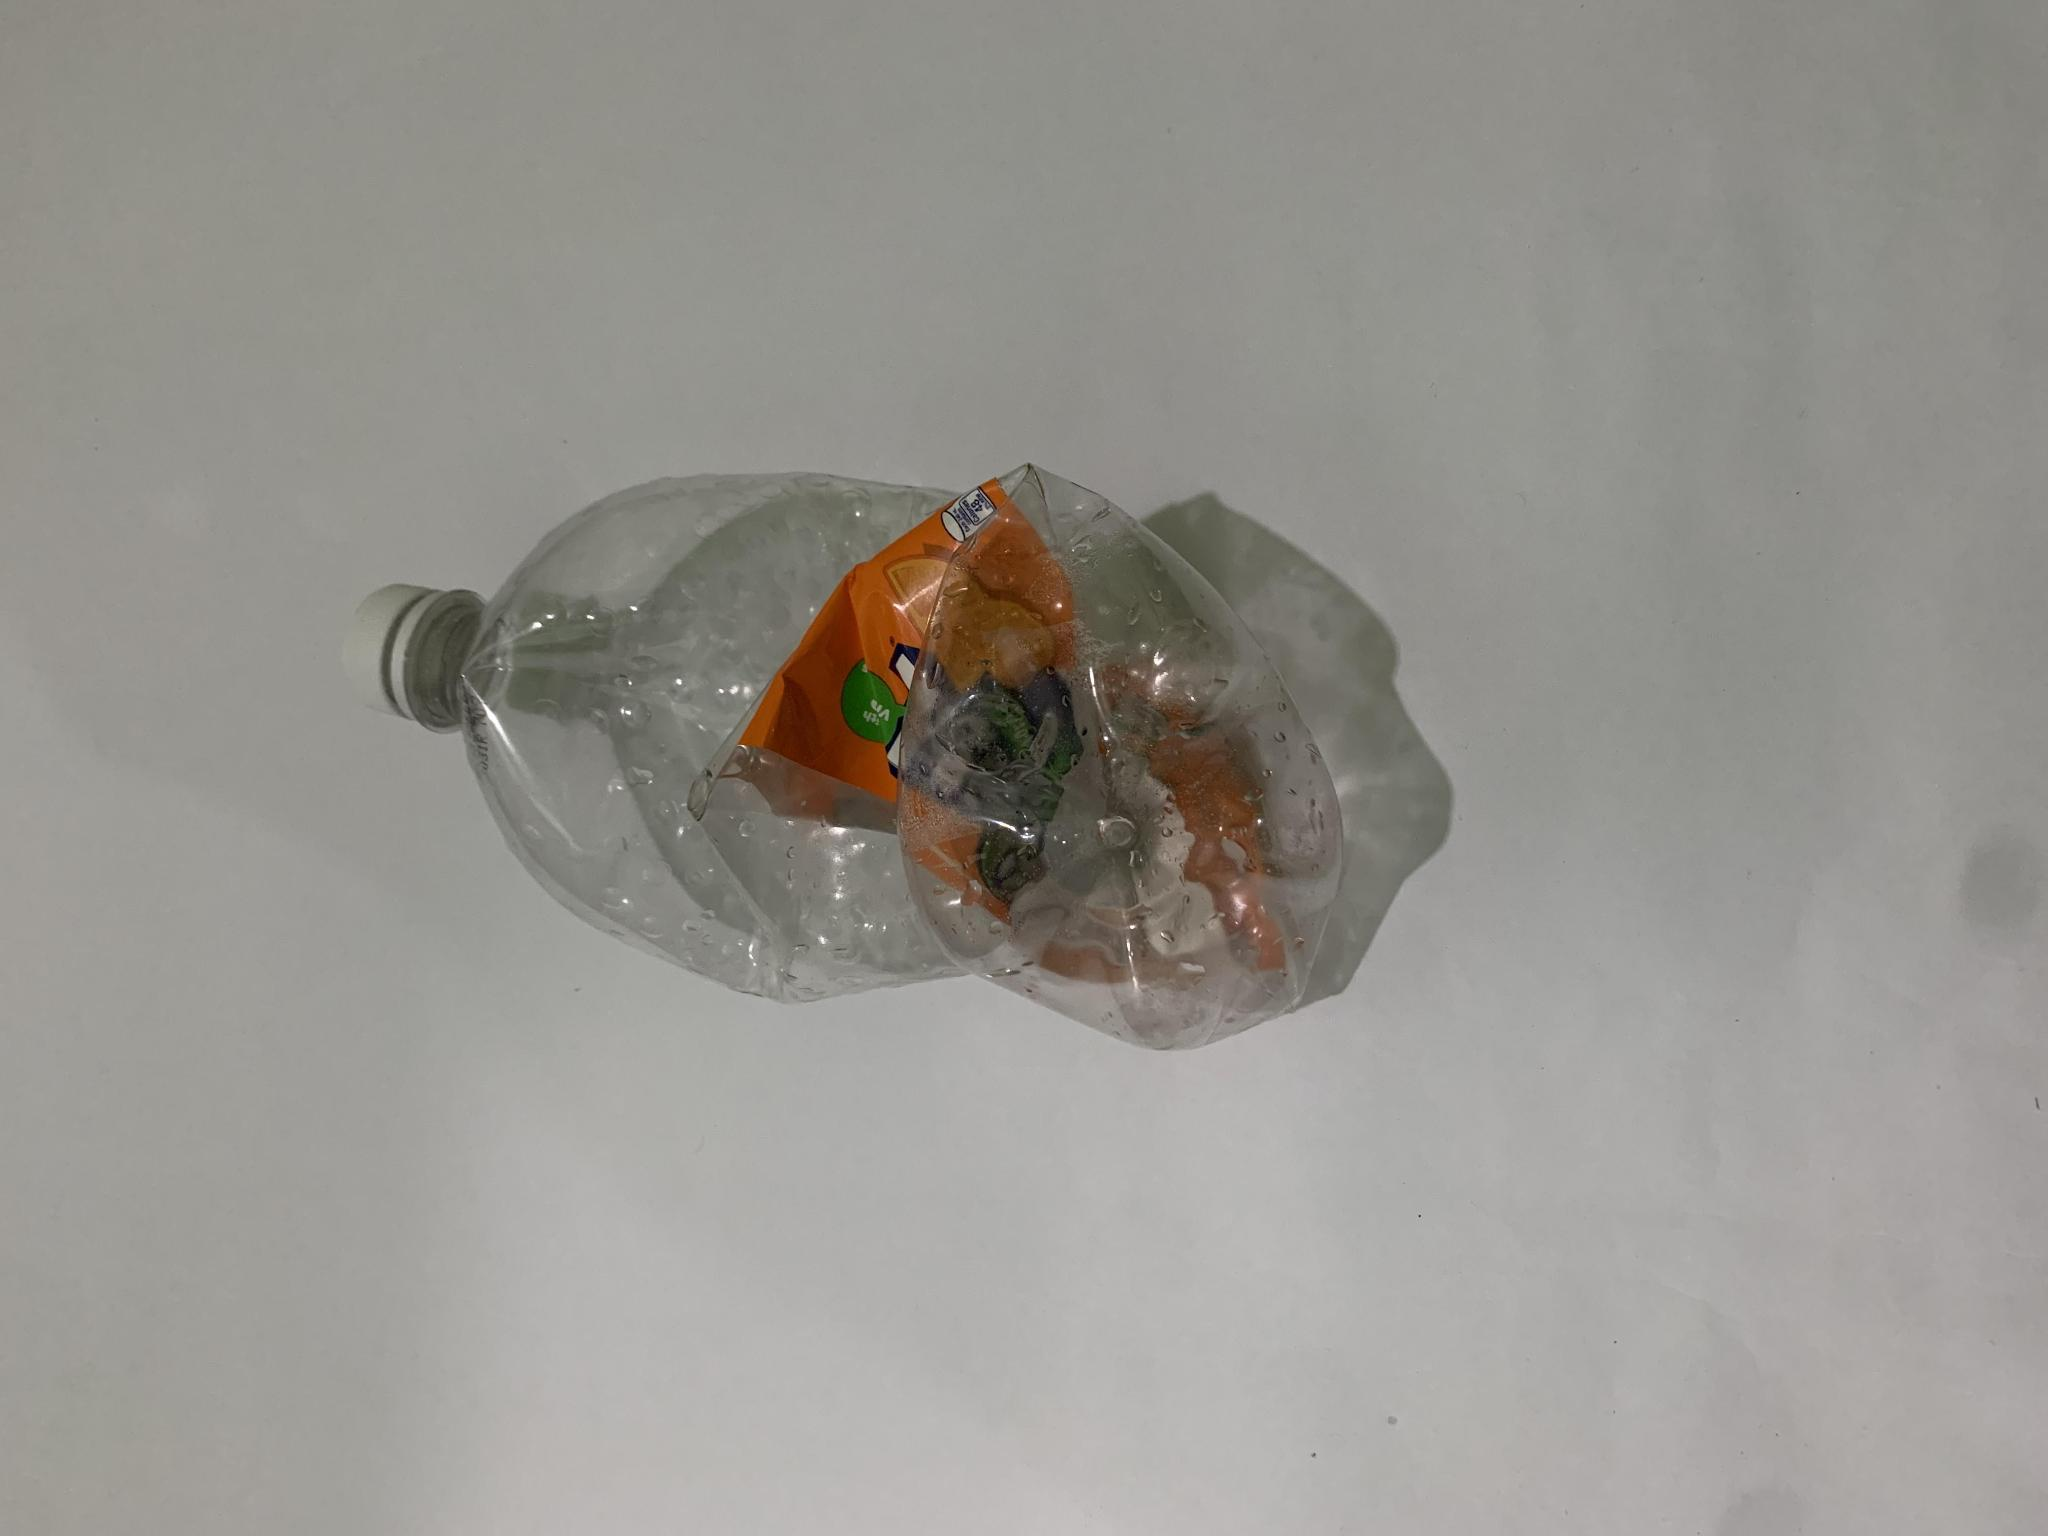bottle: (300, 428, 1370, 1078)
